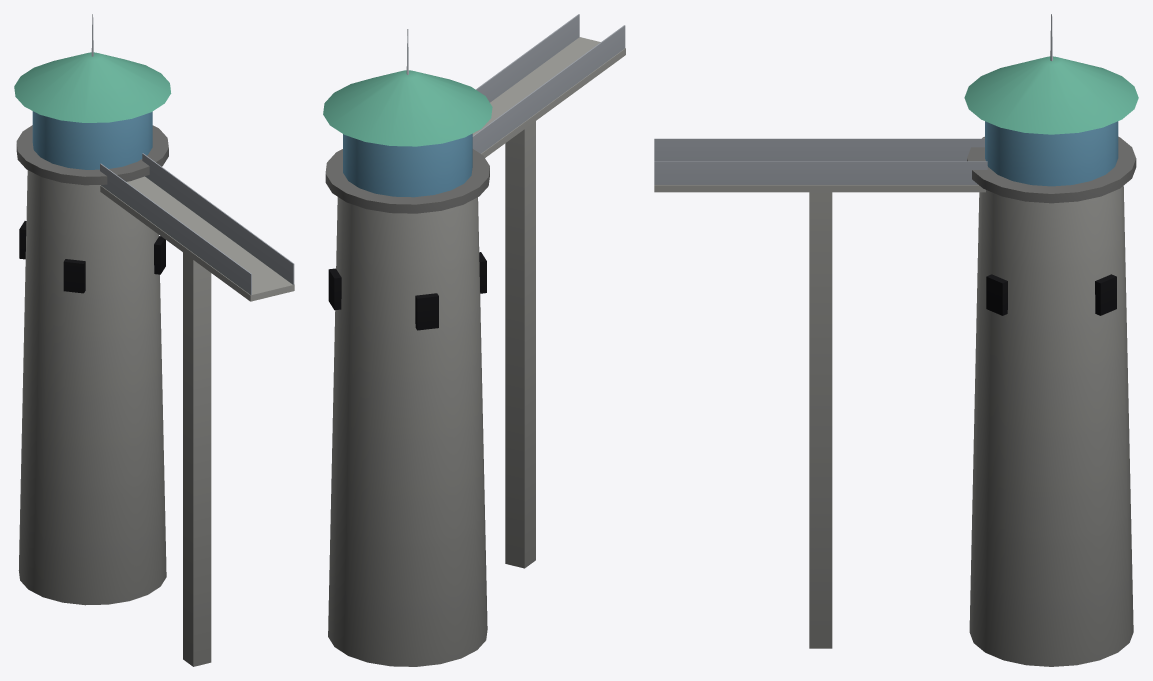
Rendered from Dam_Tower.fbx.
3 views of the same model, side by side, from view 1: azimuth 30°, elevation 25°; view 2: azimuth 150°, elevation 25°; view 3: azimuth 270°, elevation 25° (orthographic). The views are drawn at different scales.
Visible parts, largest first — view 1: Dam_Tower_LOD0; view 2: Dam_Tower_LOD0; view 3: Dam_Tower_LOD0.
Boxes of the visible parts, x1,y1,x2,y2 form: Dam_Tower_LOD0: [14, 14, 294, 666]; Dam_Tower_LOD0: [323, 14, 625, 666]; Dam_Tower_LOD0: [654, 14, 1138, 666].
Size of what is drawn, in the model's own units: 6.8 by 27.1 by 18.9.
1 material, 1 textured.
